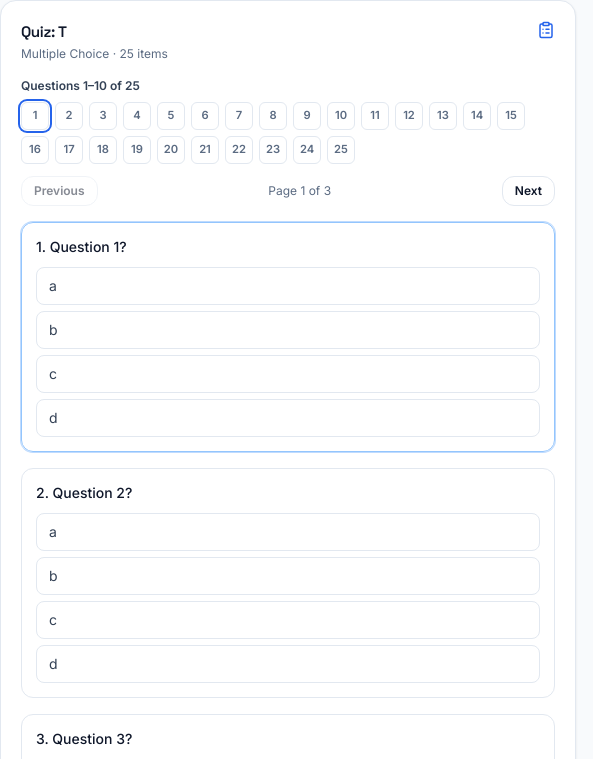
Test: QuizCard — long quiz taking (navigator + pagination) › a long quiz (>10 items) shows a navigator grid and pages 10 at a time
This screenshot has width=593, height=759.
Expected: the text "Questions 1–10 of 25" is shown, [21,78,140,93]
Expected: the text "1. Question 1?" is shown, [36,238,127,255]
Click the button "Next" at (528, 191), box [502,176,555,206]
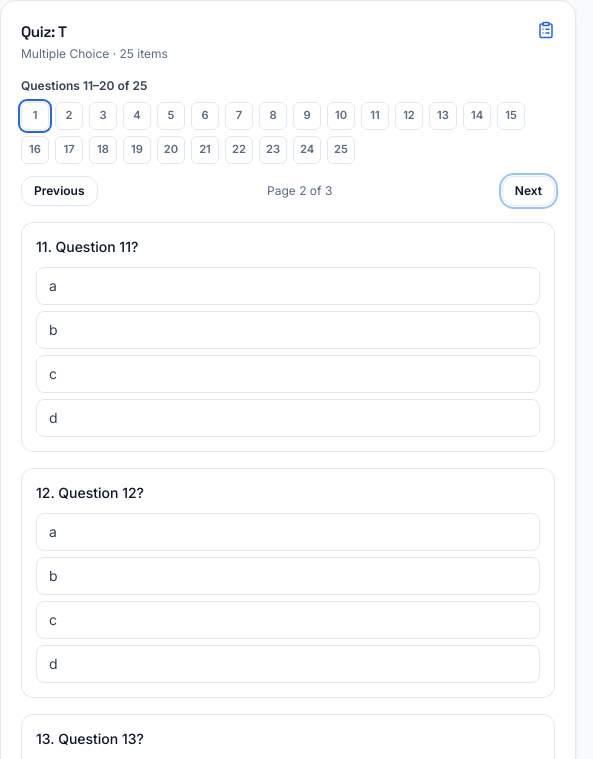
Now the text "Questions 11–20 of 25" is shown, box [21,78,147,93]
Now the text "11. Question 11?" is shown, box [36,238,138,255]
Now the text "Question 1?" is gone
